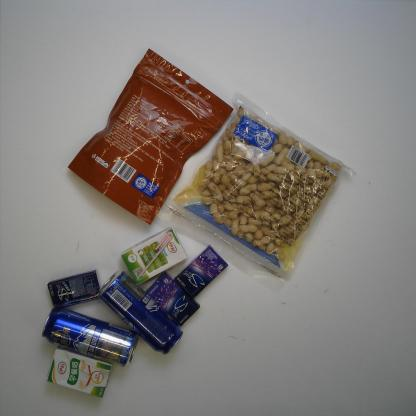Alcohol: (97, 270, 185, 356), (40, 307, 140, 368)
Dried Food: (151, 88, 360, 295), (65, 46, 237, 228)
Gum: (145, 270, 202, 328), (174, 243, 229, 298), (45, 268, 101, 310)
Milk: (120, 224, 188, 286), (45, 344, 113, 400)
